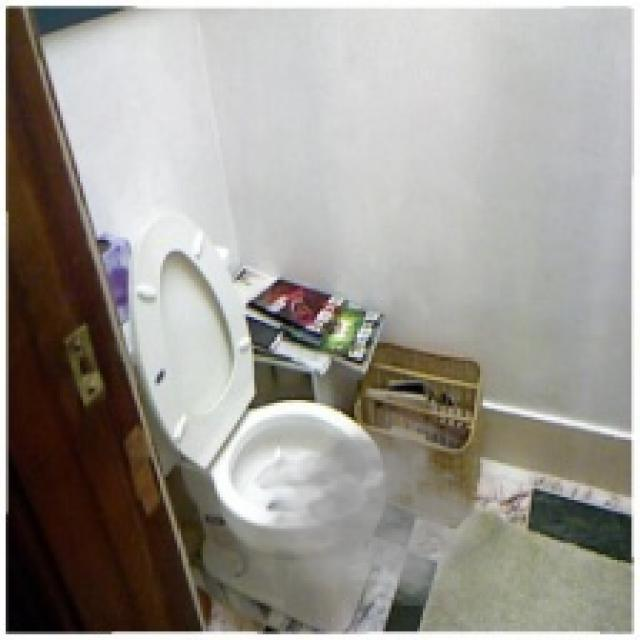Smoke: (248, 406, 494, 606)
